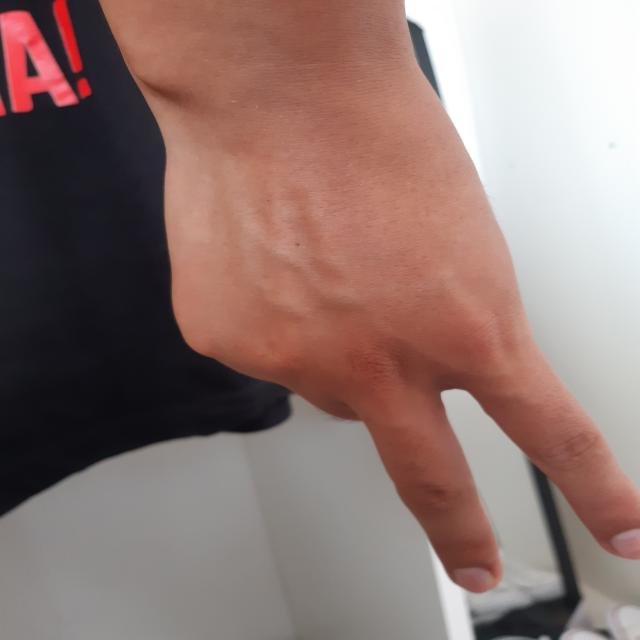EYE: (140, 96, 640, 600)
